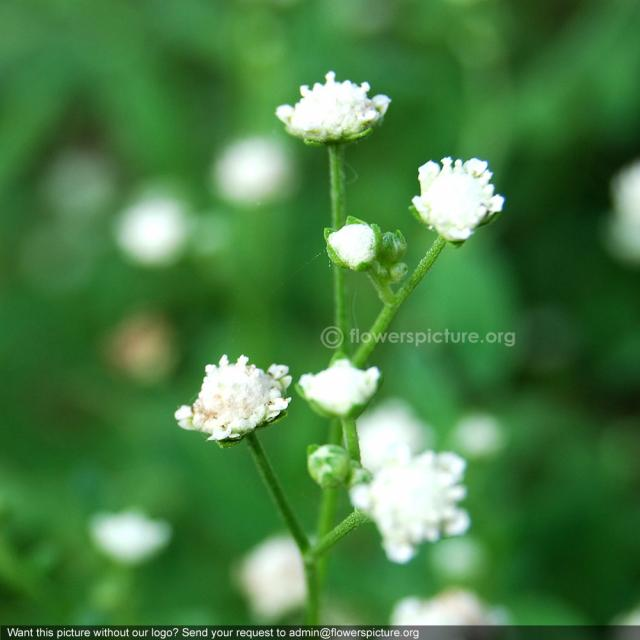Poisonous-Parthenium: (173, 61, 515, 632)
